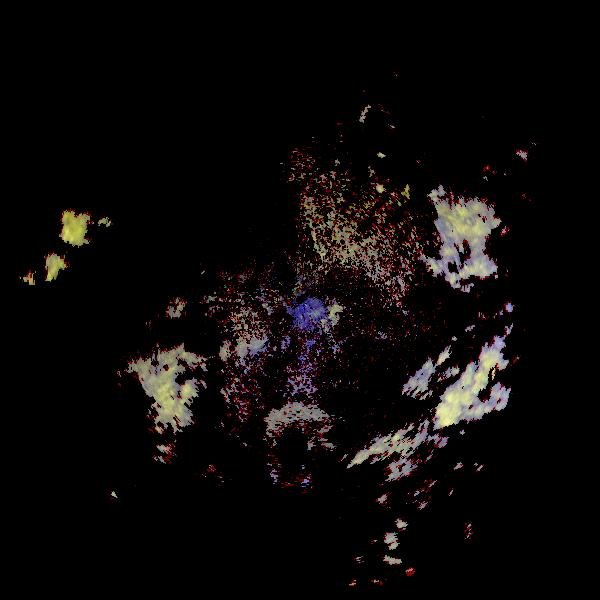roost: (247, 392, 355, 500)
